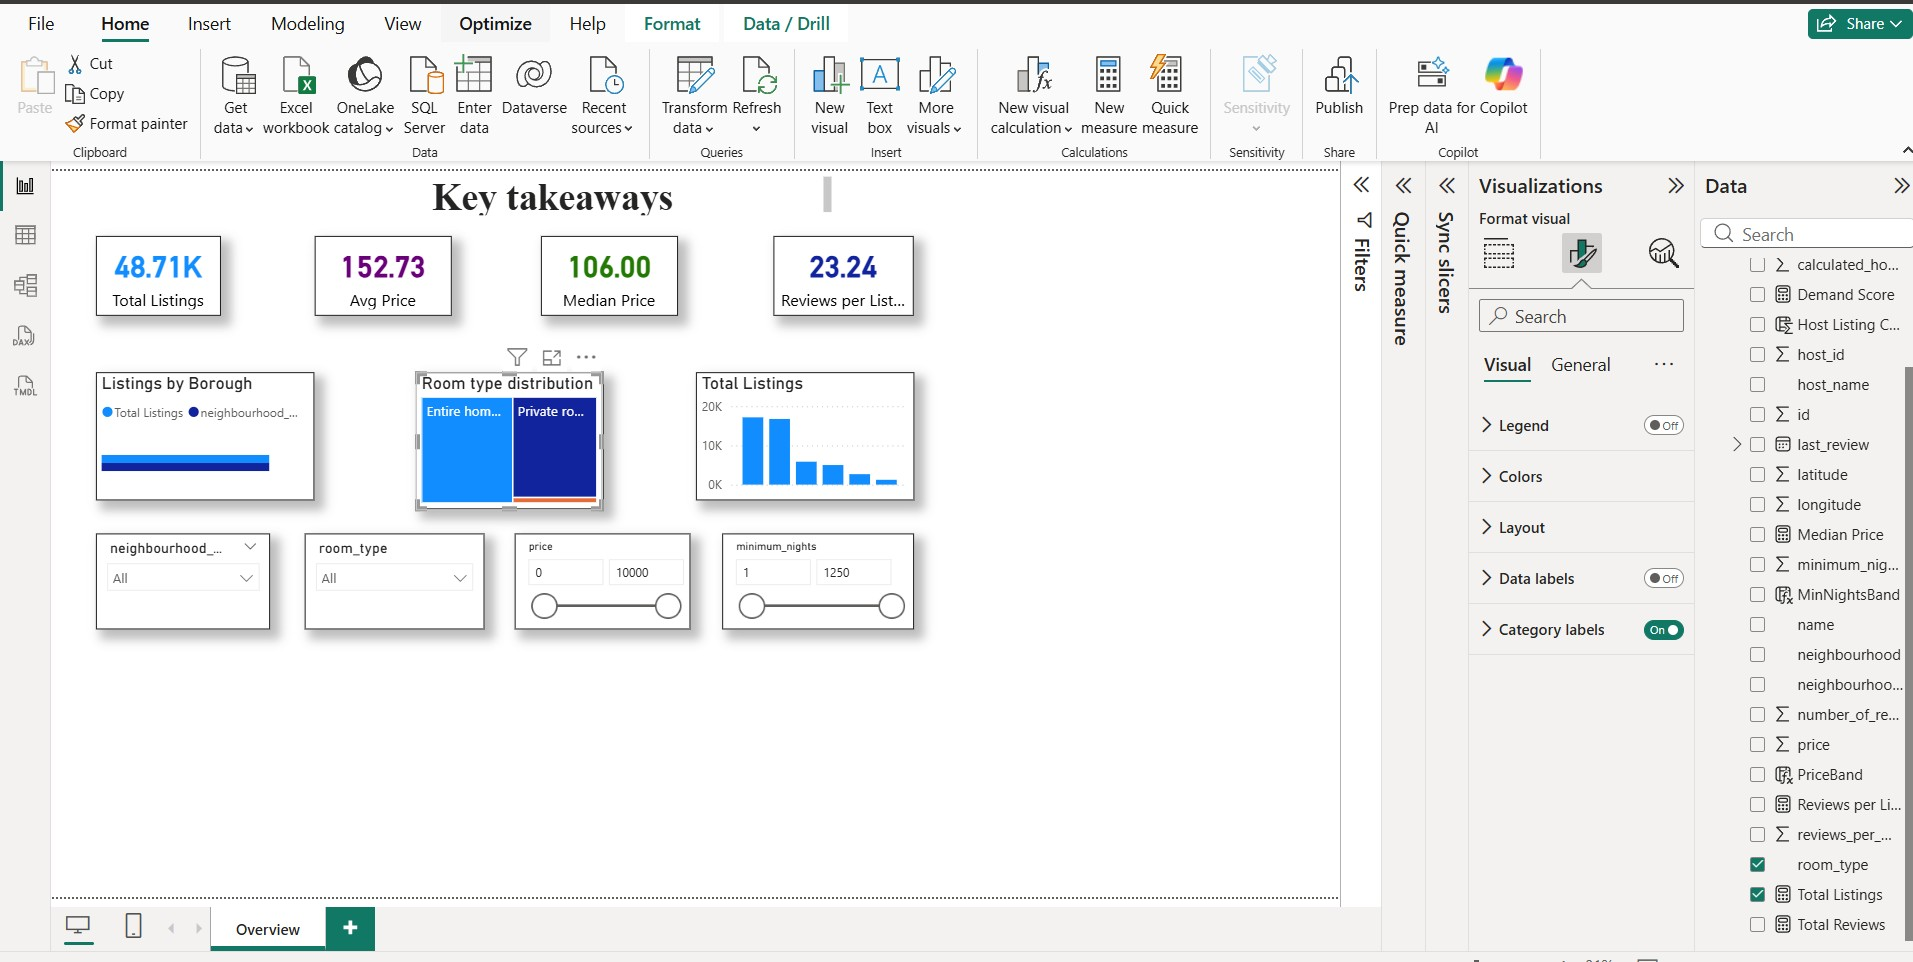

The dashboard page shown, as its layout file describes it:
{"tool":"powerbi","page":{"name":"Overview","canvas":[1280,720],"ordinal":0},"visuals":[{"type":"card","fields":{"Values":["Listings.Total Listings"]},"box":[45,64,124,79],"z":0},{"type":"card","fields":{"Values":["Listings.Avg Price"]},"box":[262,64,136,79],"z":1000},{"type":"card","fields":{"Values":["Listings.Median Price"]},"box":[487,64,136,79],"z":2000},{"type":"card","fields":{"Values":["Listings.Reviews per Listing"]},"box":[718,64,139,79],"z":3000},{"type":"treemap","title":"Room type distribution","fields":{"Details":["Listings.room_type"],"Values":["Listings.Total Listings"]},"box":[362,200,186,136],"z":4000},{"type":"clusteredBarChart","title":"Listings by Borough","fields":{"Y":["Listings.Total Listings","CountNonNull(Listings.neighbourhood_group)"]},"box":[45,200,217,127],"z":5000},{"type":"clusteredColumnChart","title":"Total Listings","fields":{"Category":["Listings.PriceBand"],"Y":["Listings.Total Listings"]},"box":[640,200,217,127],"z":5001},{"type":"slicer","fields":{"Values":["Listings.neighbourhood_group"]},"box":[45,360,173,95],"z":5002},{"type":"slicer","fields":{"Values":["Listings.room_type"]},"box":[252,360,178,95],"z":5003},{"type":"slicer","fields":{"Values":["Listings.price"]},"box":[461,360,174,95],"z":5004},{"type":"slicer","fields":{"Values":["Listings.minimum_nights"]},"box":[667,360,190,95],"z":5005},{"type":"textbox","box":[225,0,555,49],"z":5006}]}

Visuals, with their boxes on the page's 1280x720 design canvas (x1, y1, x2, y2). These are canvas units, not pixel positions in the 1913x962 screenshot, which may show the page scaled, cropped or inside an application window:
card - Listings.Total Listings: locate(45, 64, 169, 143)
card - Listings.Avg Price: locate(262, 64, 398, 143)
card - Listings.Median Price: locate(487, 64, 623, 143)
card - Listings.Reviews per Listing: locate(718, 64, 857, 143)
"Room type distribution" treemap: locate(362, 200, 548, 336)
"Listings by Borough" clusteredBarChart: locate(45, 200, 262, 327)
"Total Listings" clusteredColumnChart: locate(640, 200, 857, 327)
slicer - Listings.neighbourhood_group: locate(45, 360, 218, 455)
slicer - Listings.room_type: locate(252, 360, 430, 455)
slicer - Listings.price: locate(461, 360, 635, 455)
slicer - Listings.minimum_nights: locate(667, 360, 857, 455)
textbox: locate(225, 0, 780, 49)
